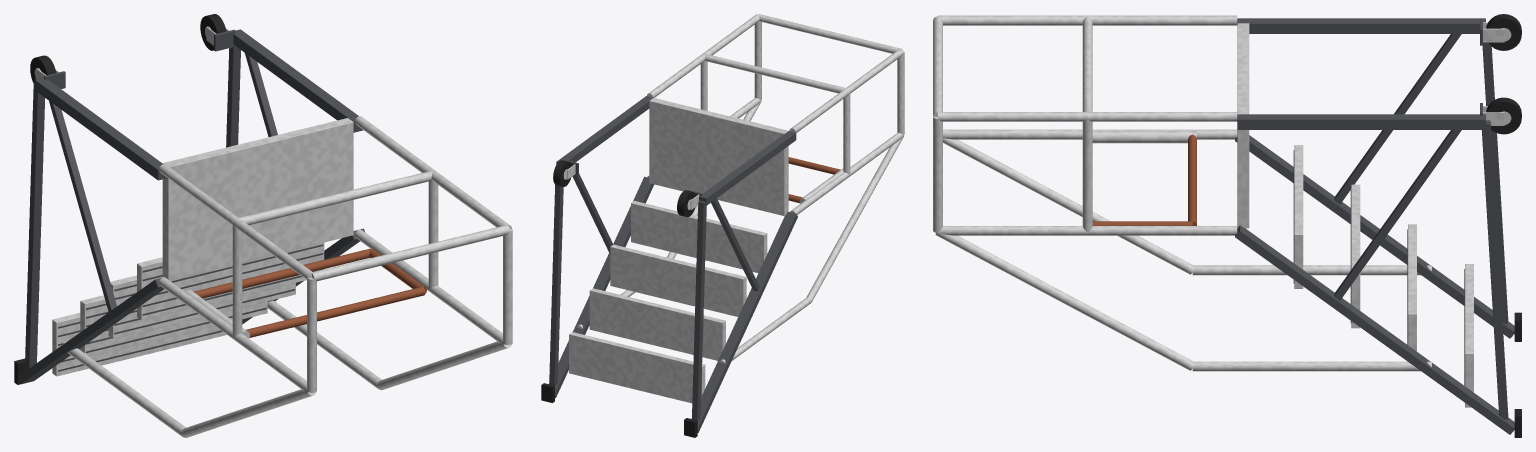
The model's file is Equipment__PlatformSteps.glb.
3 renders of one model, left to right at view 1: azimuth 30°, elevation 25°; view 2: azimuth 150°, elevation 25°; view 3: azimuth 270°, elevation 25°, orthographic. The views are drawn at different scales.
Visible parts, largest first — view 1: /World/Equipment/PlatformSteps/Visual (×2), /World/Equipment/PlatformSteps/Visual/mobile_platform_steps_ (×2); view 2: /World/Equipment/PlatformSteps/Visual (×2), /World/Equipment/PlatformSteps/Visual/mobile_platform_steps_ (×2); view 3: /World/Equipment/PlatformSteps/Visual (×2), /World/Equipment/PlatformSteps/Visual/mobile_platform_steps_ (×2).
Part boxes in pixels (<box>): /World/Equipment/PlatformSteps/Visual (×2): <box>14,14,512,437</box>; /World/Equipment/PlatformSteps/Visual/mobile_platform_steps_ (×2): <box>19,29,426,384</box>; /World/Equipment/PlatformSteps/Visual (×2): <box>541,14,904,437</box>; /World/Equipment/PlatformSteps/Visual/mobile_platform_steps_ (×2): <box>549,96,840,432</box>; /World/Equipment/PlatformSteps/Visual (×2): <box>933,14,1521,437</box>; /World/Equipment/PlatformSteps/Visual/mobile_platform_steps_ (×2): <box>1092,18,1514,434</box>.
Size of the model in its own units: 0.82 by 1.21 by 1.97.
Materials: 4 (1 with a texture image).
